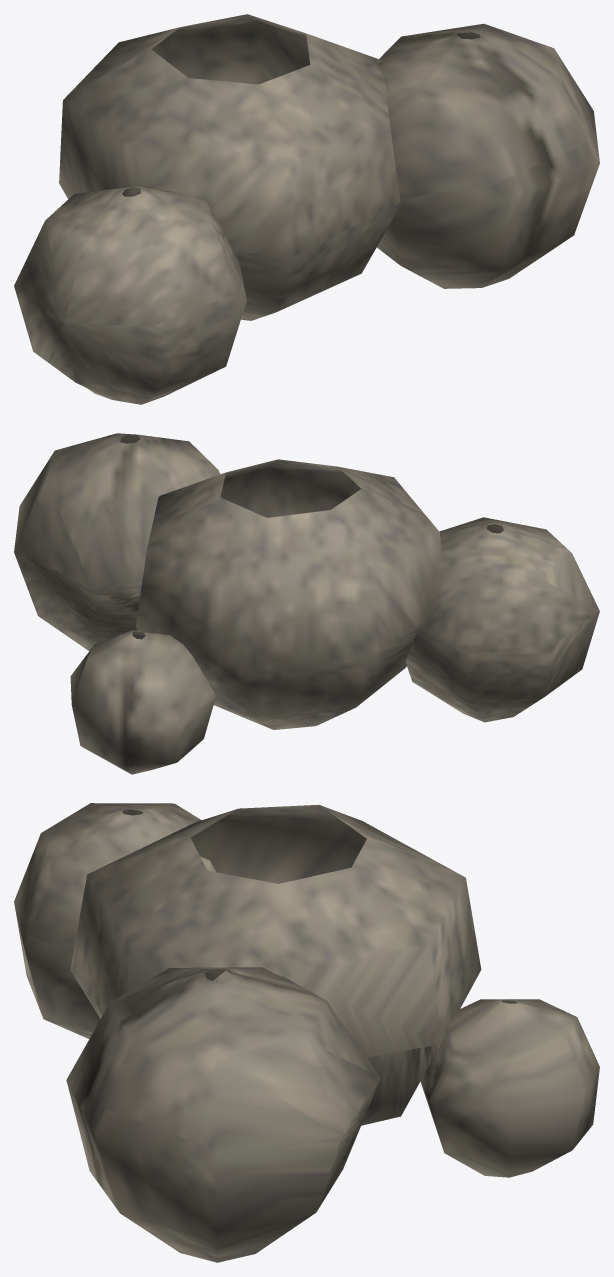
Rendered from shroom_puffball.glb.
The picture shows the model from 3 angles, top to bottom: view 1: azimuth 30°, elevation 25°; view 2: azimuth 150°, elevation 25°; view 3: azimuth 270°, elevation 25°; orthographic projection. The views are drawn at different scales.
Parts seen in each view (by area): view 1: shroom_puffball; view 2: shroom_puffball; view 3: shroom_puffball.
Boxes of the visible parts, box(x1,y1,x2,y2) form: shroom_puffball: box(14, 14, 599, 404); shroom_puffball: box(14, 433, 599, 774); shroom_puffball: box(14, 803, 599, 1262).
Bounding box in the file's own units: 0.4919 × 0.2106 × 0.3761.
Materials: 1 (1 with a texture image).
